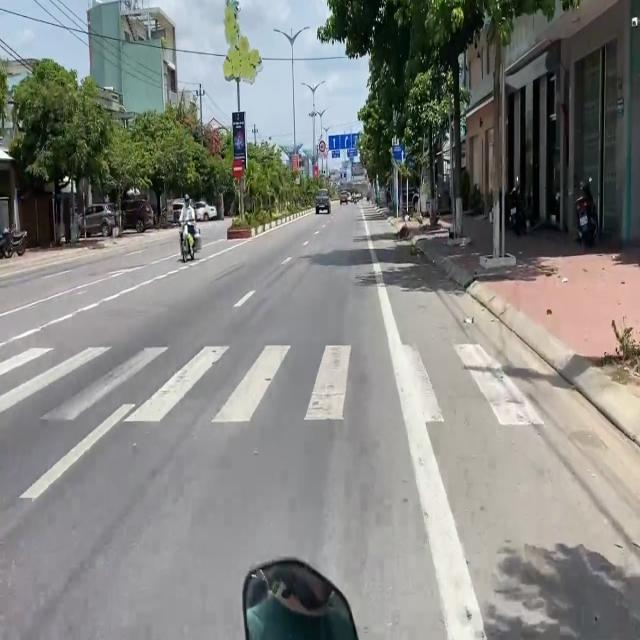walk-crossing: (0, 340, 550, 424)
